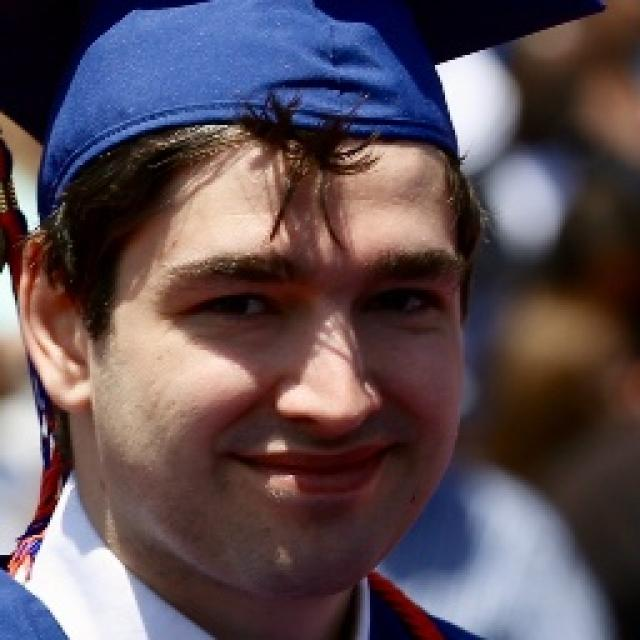earlobe: (53, 363, 96, 412)
eye: (182, 294, 280, 324), (360, 292, 445, 318)
nose: (284, 422, 384, 447)
wholeear: (20, 231, 96, 413)
